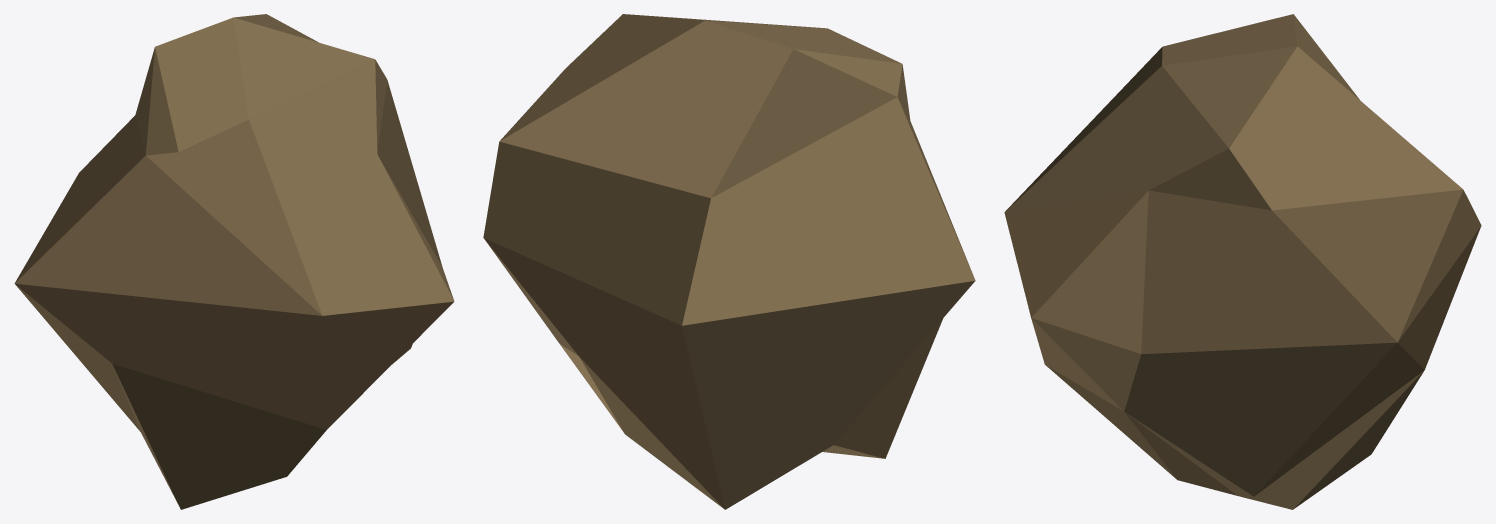
File: LightRockMechMediumBoulder1.fbx
The picture shows the model from 3 angles, left to right: view 1: azimuth 30°, elevation 25°; view 2: azimuth 150°, elevation 25°; view 3: azimuth 270°, elevation 25°; orthographic projection. The views are drawn at different scales.
Parts seen in each view (by area): view 1: LightRockMechMediumBoulder1; view 2: LightRockMechMediumBoulder1; view 3: LightRockMechMediumBoulder1.
Part boxes in pixels (bbox=[...]): LightRockMechMediumBoulder1: bbox=[14, 14, 454, 509]; LightRockMechMediumBoulder1: bbox=[483, 14, 975, 509]; LightRockMechMediumBoulder1: bbox=[1004, 14, 1481, 509].
Bounding box in the file's own units: 338 × 347 × 338.
